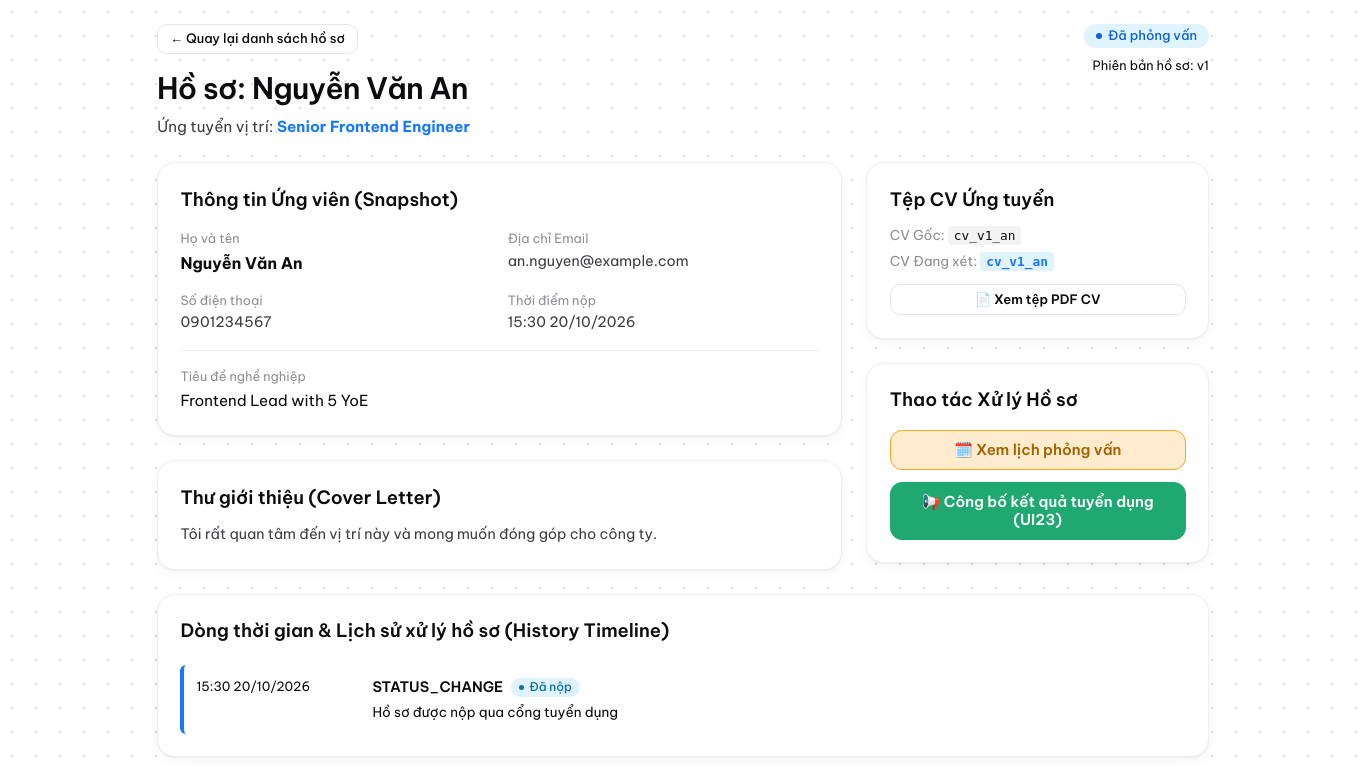
it: RecruiterApplicationDetailPage (UI20, UI23, FE31) › opens publish result dialog and validates internal reason for REJECTED (UI23, BR13)
// Open Modal
Click the button with test id "publish-result-modal-btn" at x=1038, y=511, box [890, 482, 1186, 540]
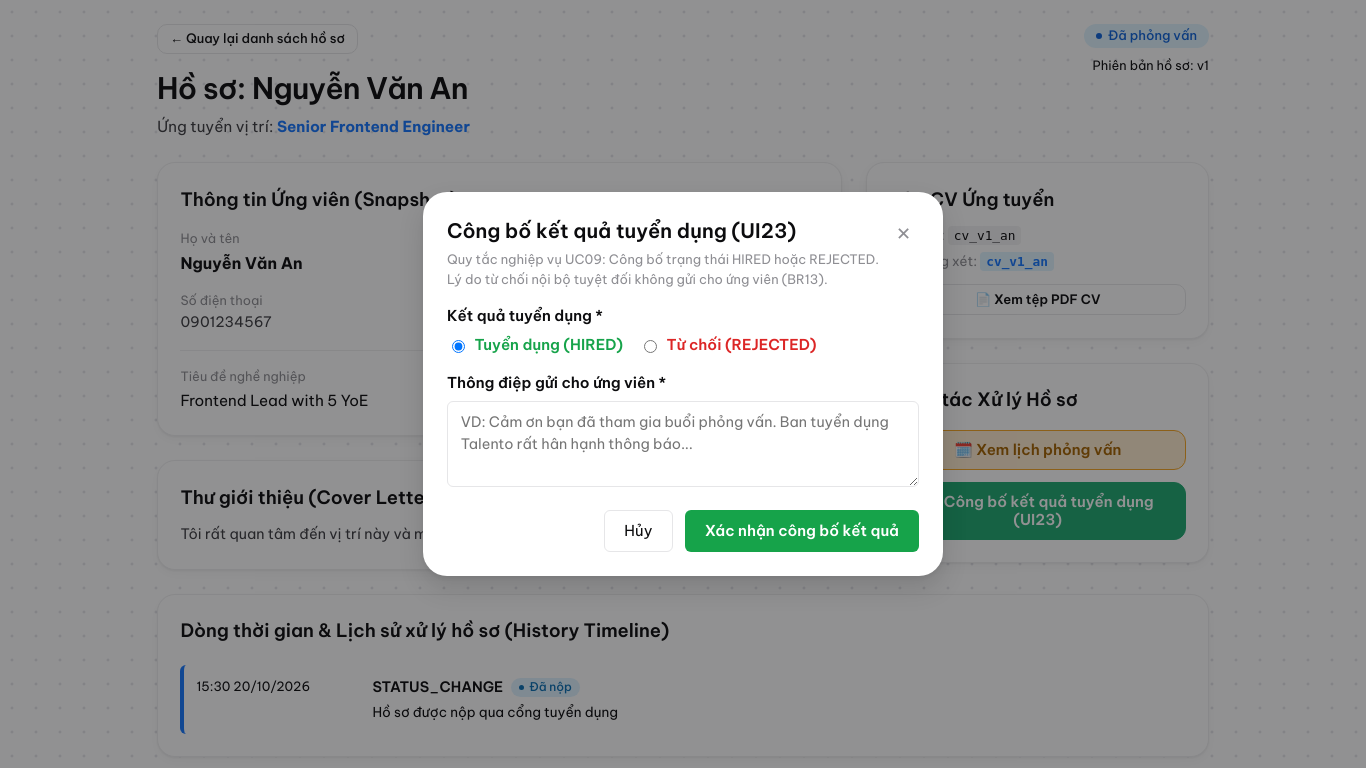
Check: the heading "Công bố kết quả tuyển dụng (UI23)" is shown, box [447, 218, 796, 243]
// Select REJECTED
Click the radio button labelled "Từ chối (REJECTED)" at x=650, y=347, box [644, 340, 657, 353]
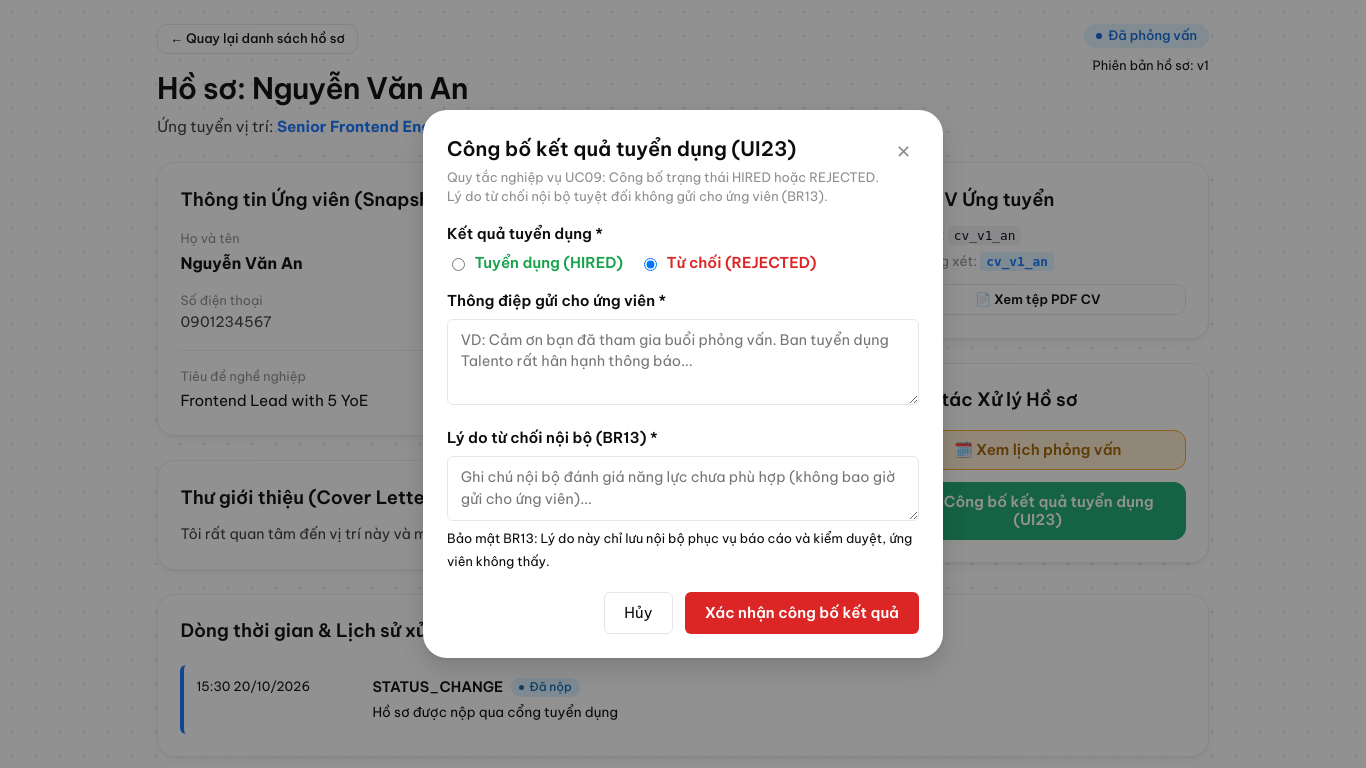
// Provide message to candidate but leave internal reason empty
Replace the text in the text box with test id "result-message-input" with "Cảm ơn bạn đã ứng tuyển, hẹn gặp lại dịp khác." at x=683, y=362, box [447, 319, 919, 405]
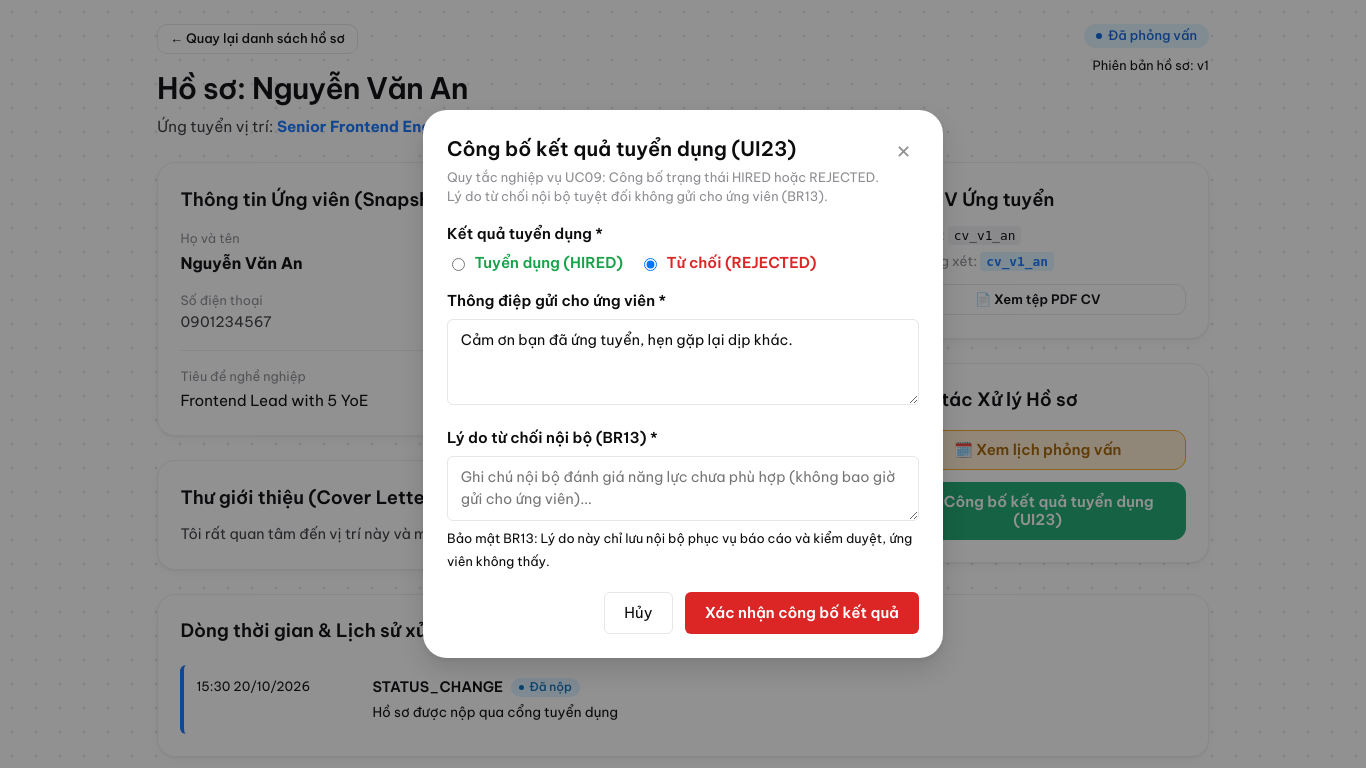
Click the button with test id "confirm-publish-result-btn" at x=802, y=613, box [685, 592, 919, 634]
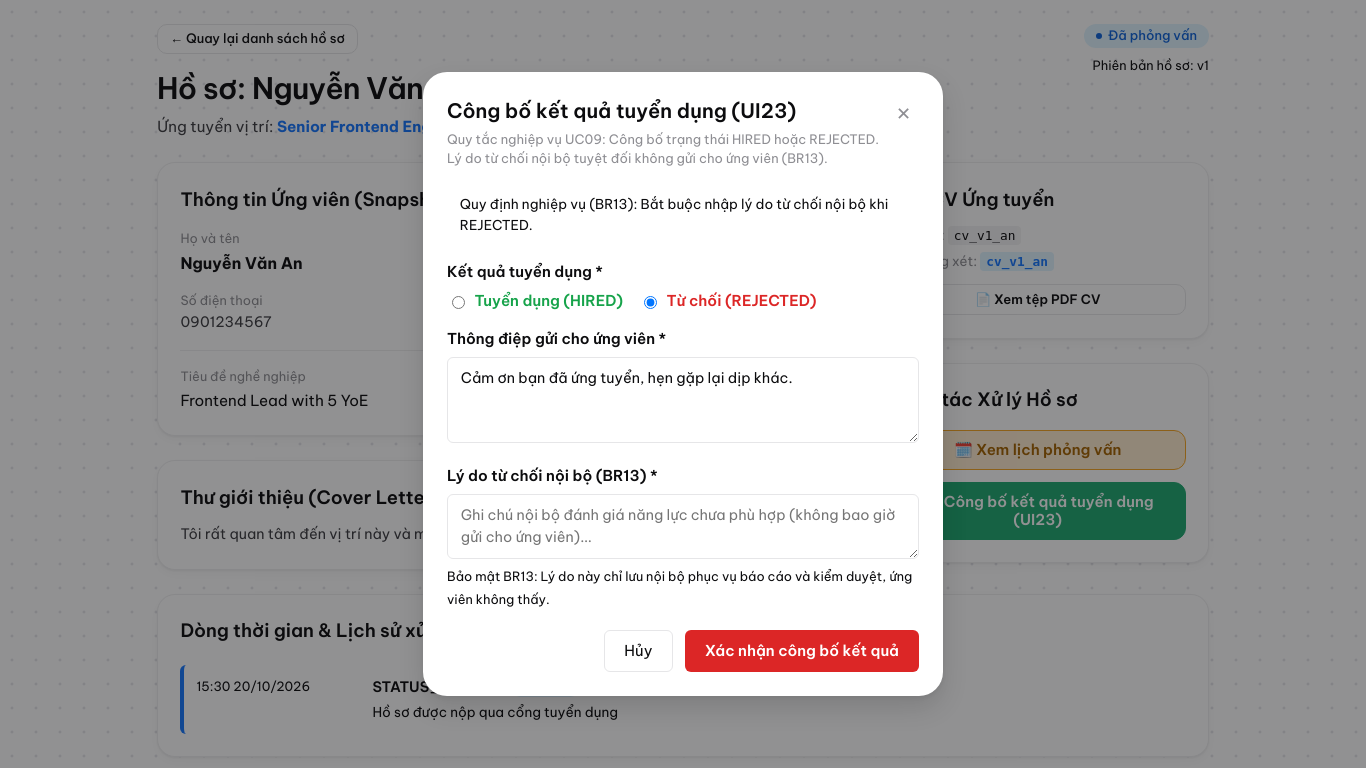
Check: the text "Quy định nghiệp vụ (BR13): Bắt buộc nhập lý do từ chối nội bộ khi REJECTED." is shown, box [447, 185, 919, 245]
// Now fill internal reason
Replace the text in the text box with test id "reject-reason-input" with "Chưa đủ năm kinh nghiệm thực tế về Distributed Systems" at x=683, y=526, box [447, 494, 919, 559]
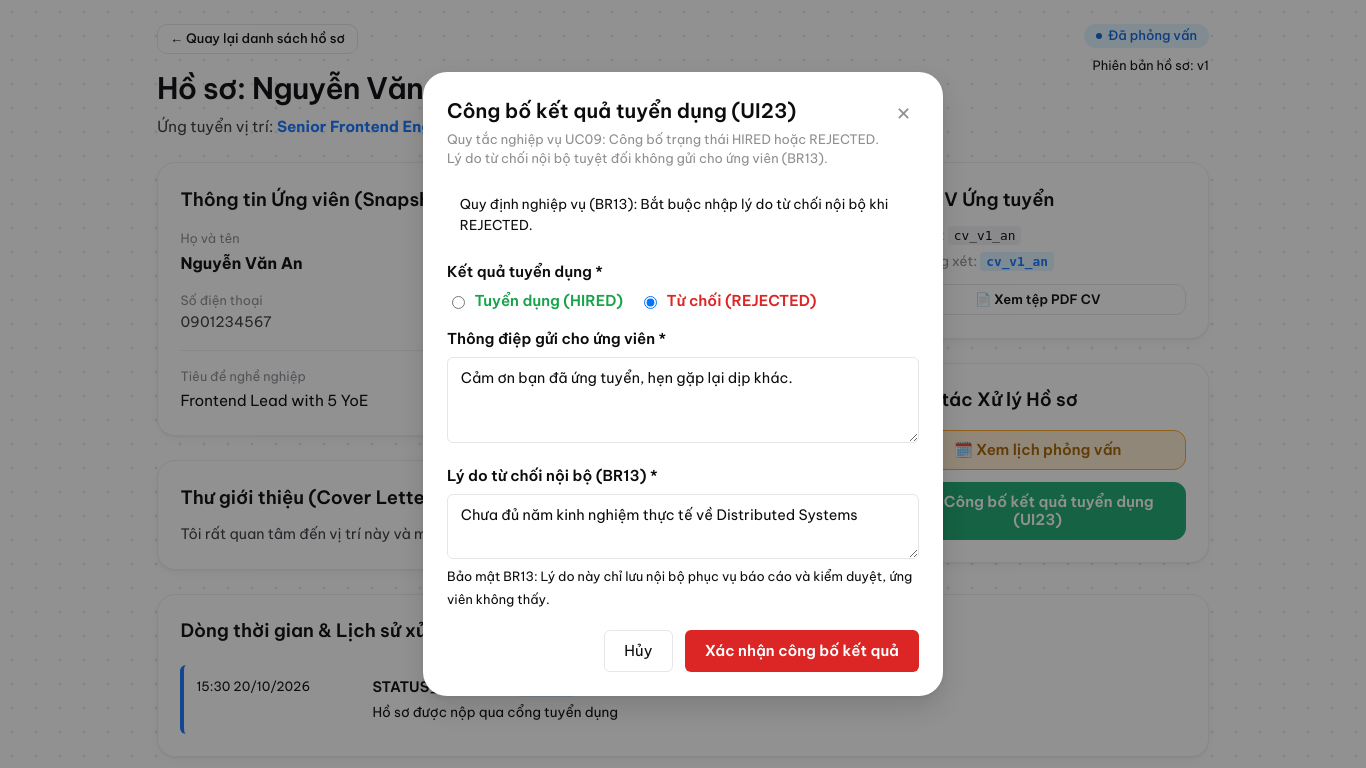
Click the button with test id "confirm-publish-result-btn" at x=802, y=651, box [685, 630, 919, 672]
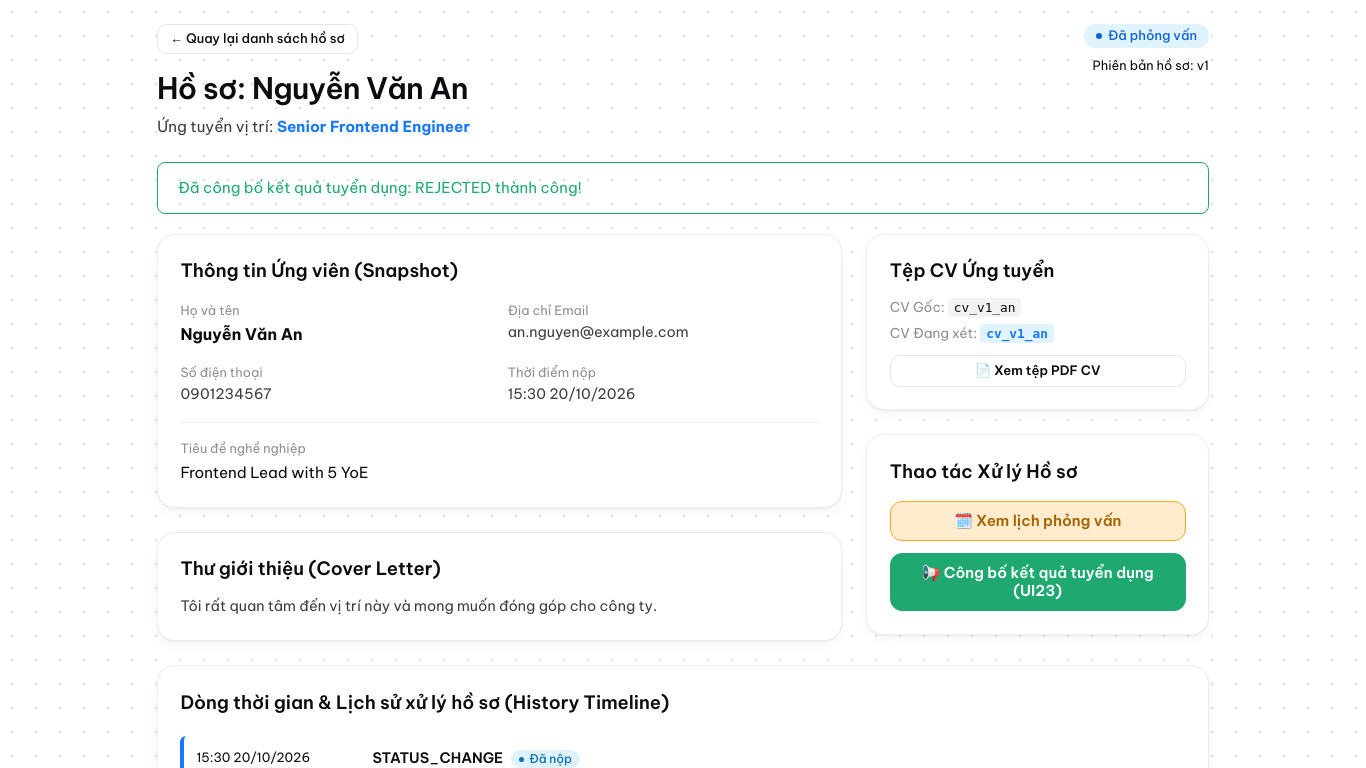
Check: the text "Đã công bố kết quả tuyển dụng: REJECTED thành công!" is shown, box [157, 162, 1209, 214]
